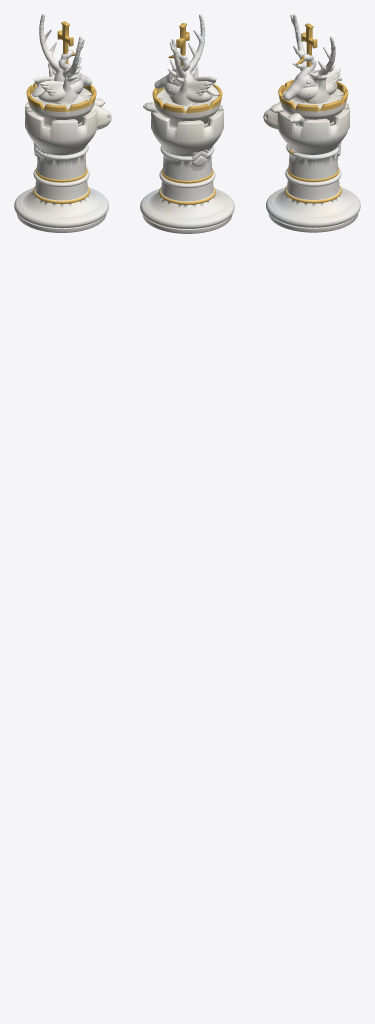
Rendered from menagerie.glb.
3 renders of one model, left to right at view 1: azimuth 90°, elevation 25°; view 2: azimuth 210°, elevation 25°; view 3: azimuth 270°, elevation 25°, orthographic.
Visible parts, largest first — view 1: menagerie_king, menagerie_rook, menagerie_queen, menagerie_knight, menagerie_bishop; view 2: menagerie_king, menagerie_rook, menagerie_queen, menagerie_knight, menagerie_bishop; view 3: menagerie_king, menagerie_rook, menagerie_queen, menagerie_knight, menagerie_bishop.
Boxes of the visible parts, bbox=[...] form: menagerie_king: bbox=[14, 14, 108, 232]; menagerie_rook: bbox=[25, 98, 105, 200]; menagerie_queen: bbox=[26, 49, 96, 125]; menagerie_knight: bbox=[33, 94, 111, 187]; menagerie_bishop: bbox=[49, 66, 81, 104]; menagerie_king: bbox=[140, 14, 234, 233]; menagerie_rook: bbox=[143, 102, 223, 201]; menagerie_queen: bbox=[152, 51, 222, 126]; menagerie_knight: bbox=[159, 97, 215, 188]; menagerie_bishop: bbox=[168, 67, 198, 105]; menagerie_king: bbox=[266, 14, 360, 232]; menagerie_rook: bbox=[269, 101, 349, 199]; menagerie_queen: bbox=[278, 53, 348, 123]; menagerie_knight: bbox=[263, 97, 341, 186]; menagerie_bishop: bbox=[297, 74, 333, 123].
Size of the model in its own units: 0.5403 by 6.2 by 0.5559.
Materials: 2 (2 with a texture image).
